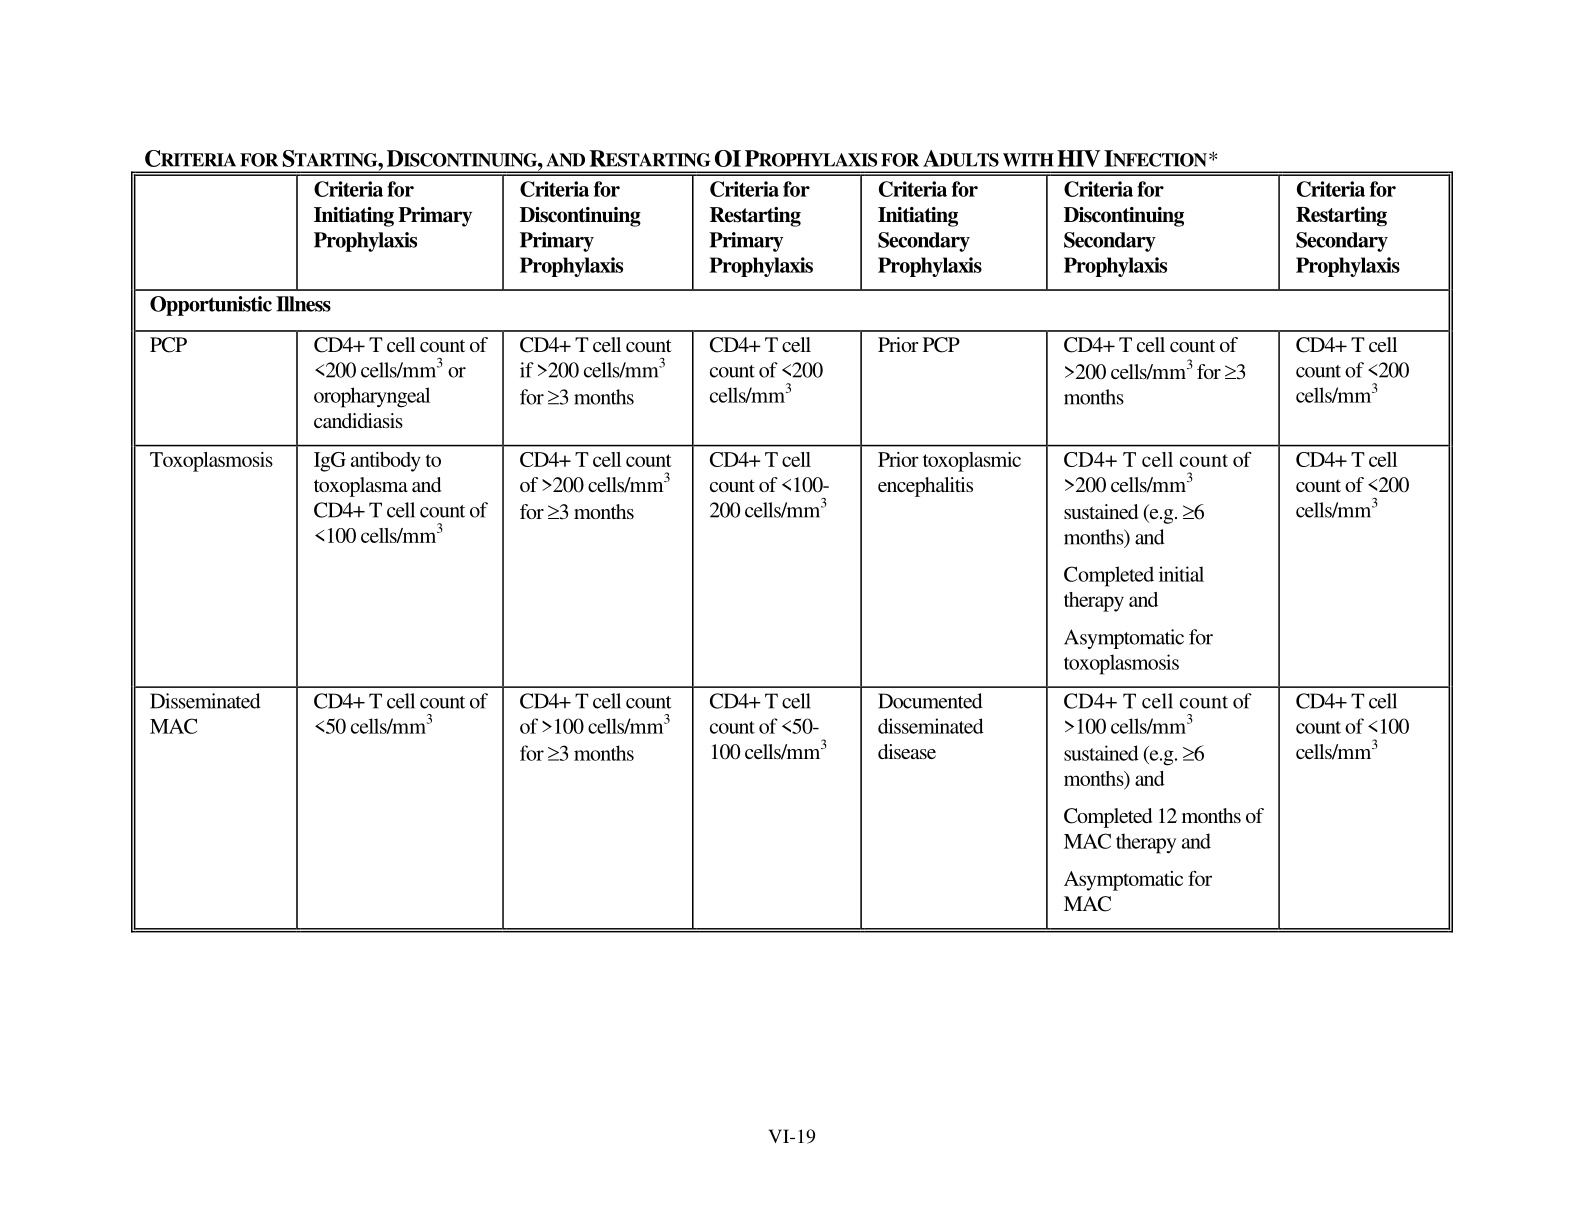merged_cells: (130, 170, 1452, 932)
